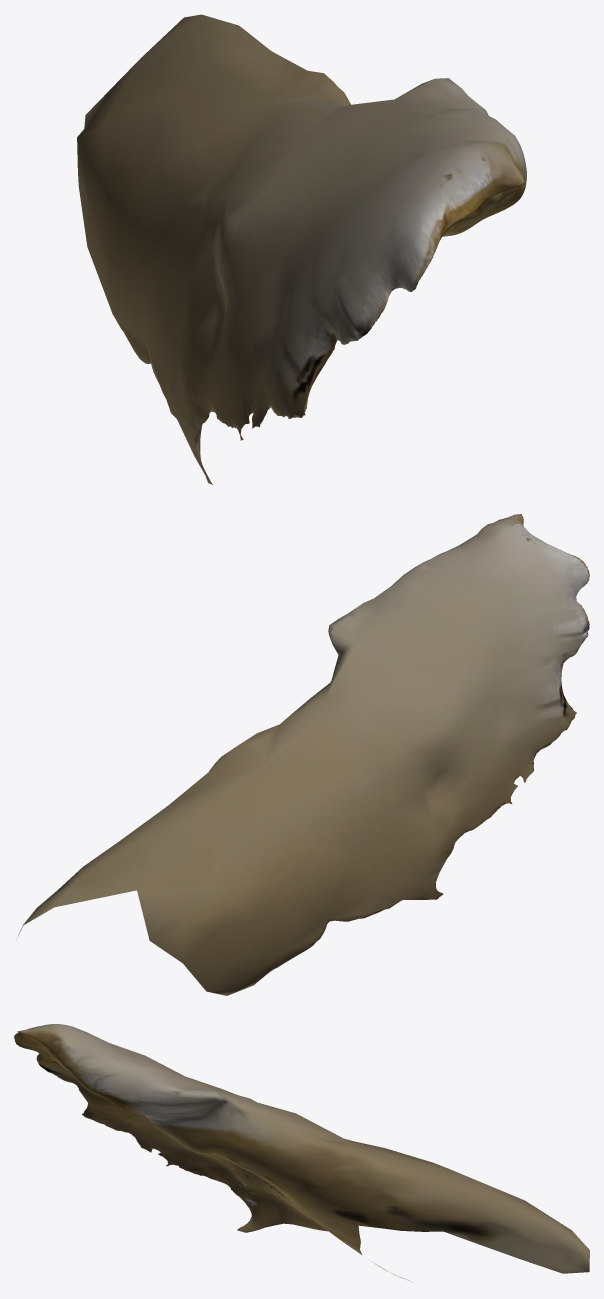
3 views of the same model, one above another, from view 1: azimuth 30°, elevation 25°; view 2: azimuth 150°, elevation 25°; view 3: azimuth 270°, elevation 25° (orthographic). The views are drawn at different scales.
Bounding box in the file's own units: 0.2045 × 0.2327 × 0.4876.
Materials: 1 (1 with a texture image).
